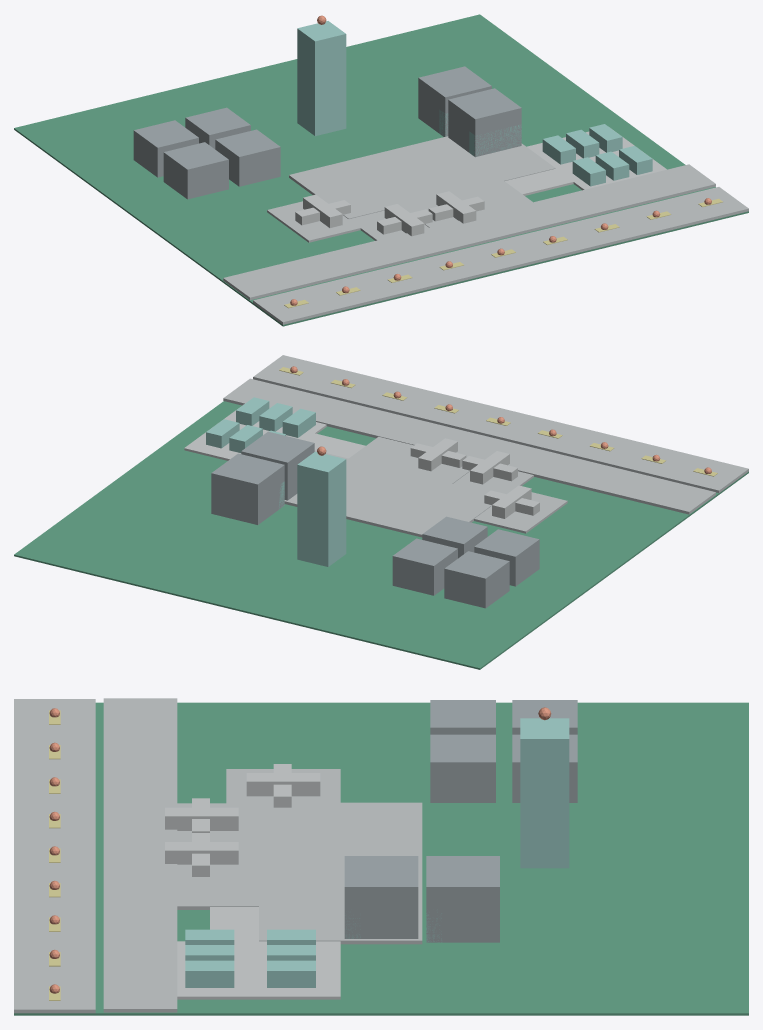
Rendered from stage_18.glb.
3 views of the same model, one above another, from view 1: azimuth 30°, elevation 25°; view 2: azimuth 150°, elevation 25°; view 3: azimuth 270°, elevation 25° (orthographic). The views are drawn at different scales.
Visible parts, largest first — view 1: geometry_0; view 2: geometry_0; view 3: geometry_0.
Boxes of the visible parts, <box> form: geometry_0: <box>14,14,748,326</box>; geometry_0: <box>14,355,748,669</box>; geometry_0: <box>14,698,748,1015</box>.
Bounding box in the file's own units: 9 × 2.06 × 9.
